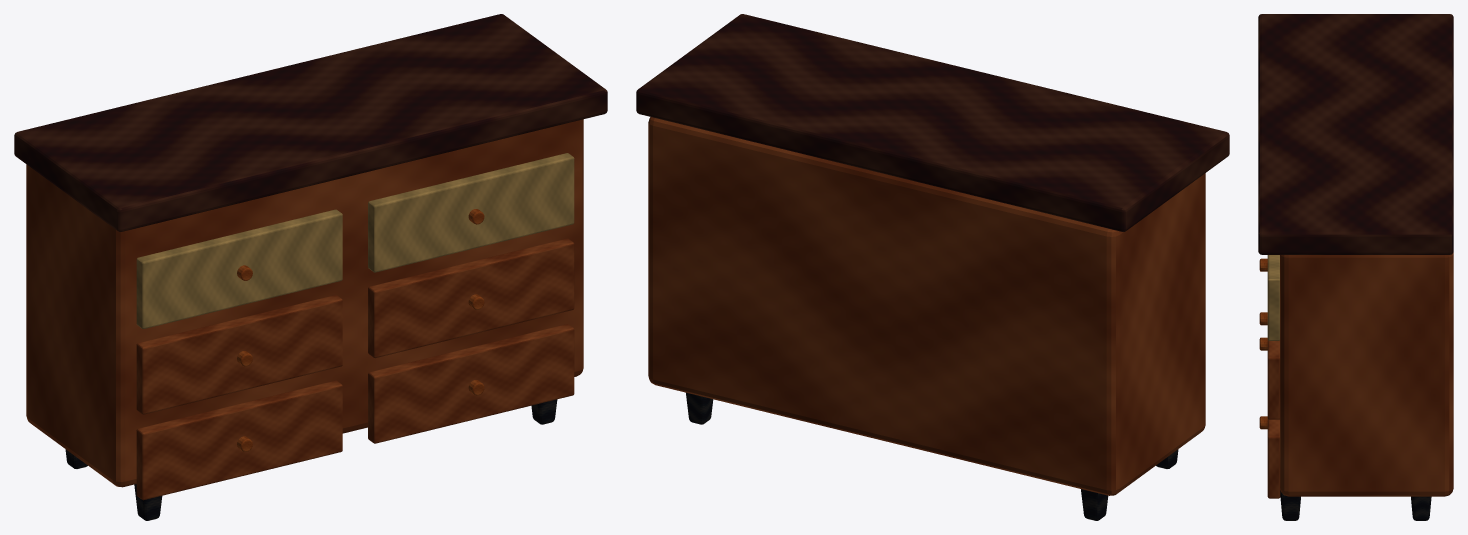
Rendered from drawer-chest-pbr-v1.glb.
3 renders of one model, left to right at view 1: azimuth 30°, elevation 25°; view 2: azimuth 150°, elevation 25°; view 3: azimuth 270°, elevation 25°, orthographic. The views are drawn at different scales.
Parts seen in each view (by area): view 1: chest-walnut-top, chest-oak-body, chest-drawer-2-0, chest-drawer-1-1, chest-drawer-1-0, chest-drawer-0-0, chest-drawer-0-1, chest-drawer-2-1; view 2: chest-oak-body, chest-walnut-top, chest-tapered-leg, chest-tapered-leg.002; view 3: chest-walnut-top, chest-oak-body, chest-drawer-0-1, chest-drawer-2-1, chest-drawer-1-1, chest-tapered-leg.003, chest-tapered-leg.
Boxes of the visible parts, bbox=[...] form: chest-walnut-top: bbox=[14, 14, 607, 231]; chest-oak-body: bbox=[26, 119, 583, 487]; chest-drawer-2-0: bbox=[136, 380, 342, 500]; chest-drawer-1-1: bbox=[368, 238, 574, 358]; chest-drawer-1-0: bbox=[136, 295, 342, 414]; chest-drawer-0-0: bbox=[136, 209, 342, 328]; chest-drawer-0-1: bbox=[368, 153, 574, 272]; chest-drawer-2-1: bbox=[368, 324, 574, 443]; chest-oak-body: bbox=[648, 117, 1205, 495]; chest-walnut-top: bbox=[636, 14, 1229, 231]; chest-tapered-leg: bbox=[686, 392, 713, 424]; chest-tapered-leg.002: bbox=[1081, 489, 1108, 520]; chest-walnut-top: bbox=[1258, 14, 1453, 254]; chest-oak-body: bbox=[1280, 252, 1453, 496]; chest-drawer-0-1: bbox=[1267, 255, 1279, 340]; chest-drawer-2-1: bbox=[1267, 418, 1280, 498]; chest-drawer-1-1: bbox=[1267, 339, 1279, 419]; chest-tapered-leg.003: bbox=[1280, 490, 1300, 520]; chest-tapered-leg: bbox=[1411, 496, 1431, 520].
Size of the model in its own units: 1.44 by 0.935 by 0.54.
Materials: 5 (5 with a texture image).
